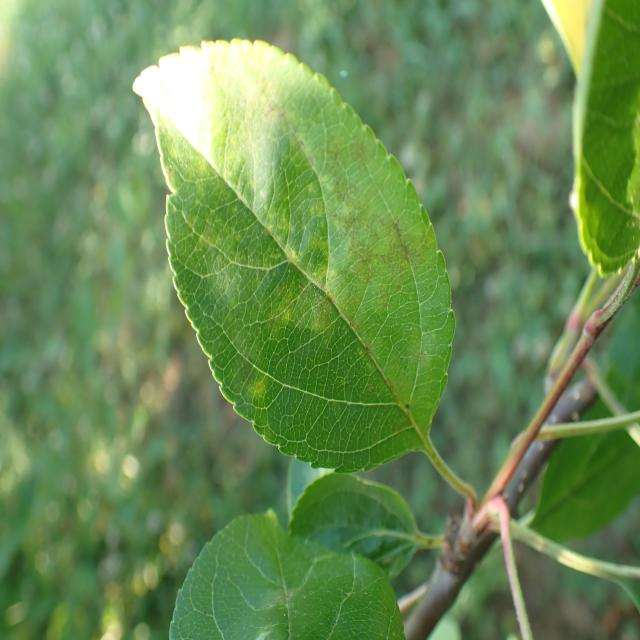scab: (222, 73, 446, 454)
